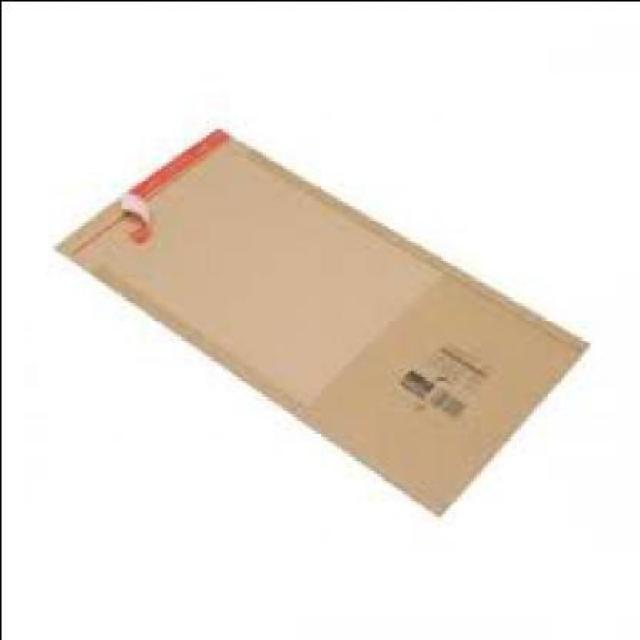CARDBOARD: (48, 121, 583, 512)
